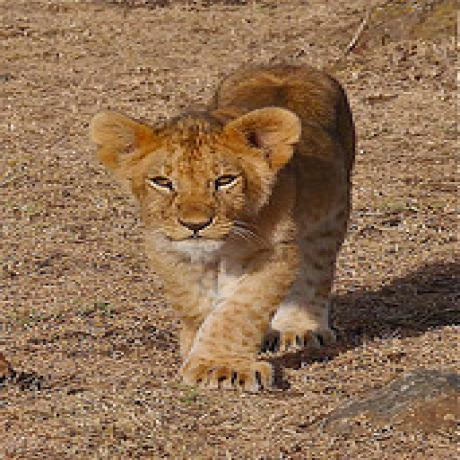Lion: (85, 56, 357, 398)
